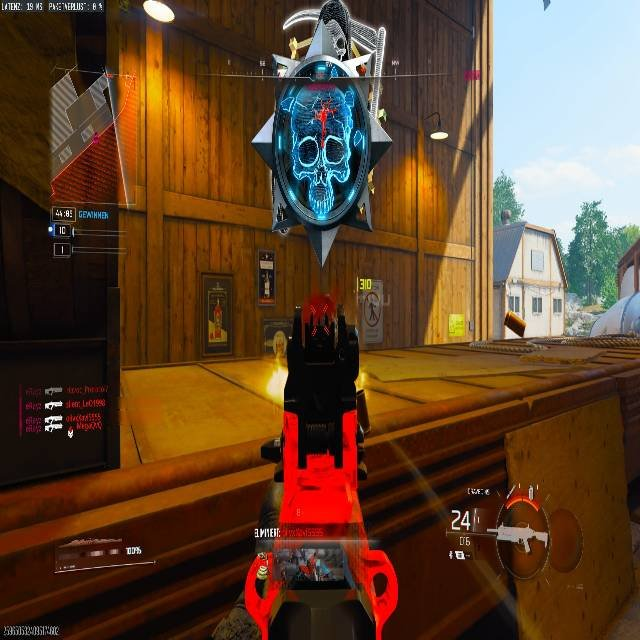head: (282, 9, 321, 60)
player: (249, 2, 390, 233)
